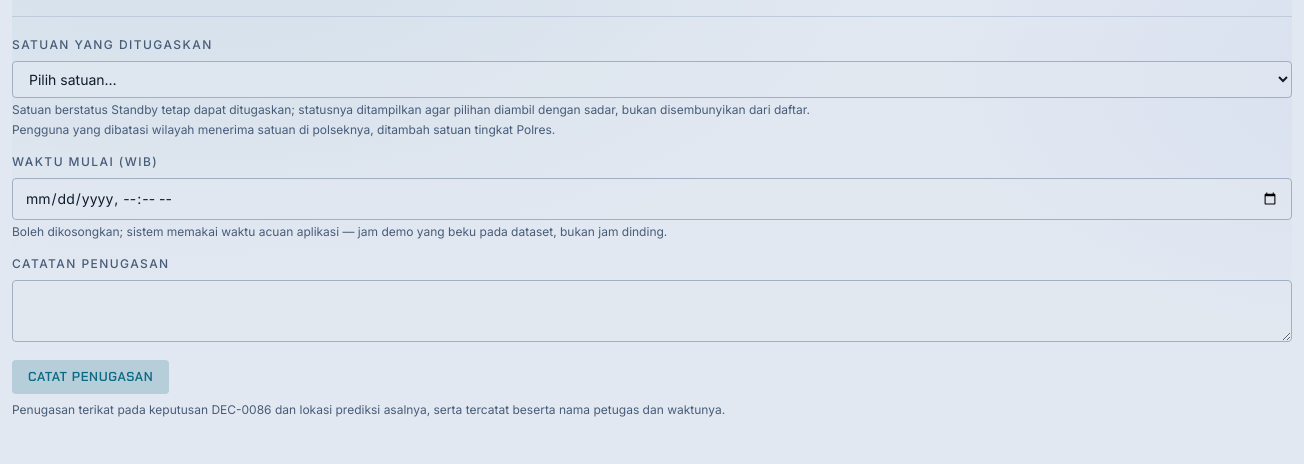
Test case: formulir penugasan › menyatakan kegagalan backend sebagai kalimat, bukan kode kesalahan
Select "Unit Pembinaan Wilayah · Binmas · Aktif (UNIT-004)" in the dropdown at (652, 80), box [12, 61, 1292, 98]
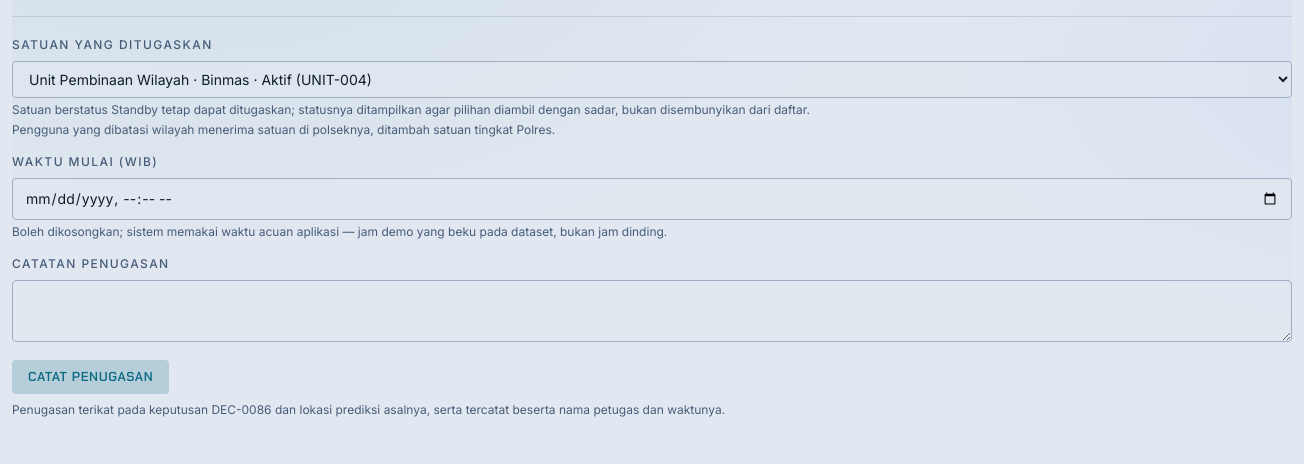
Click the button "Catat Penugasan" at (91, 377), box [12, 360, 169, 394]
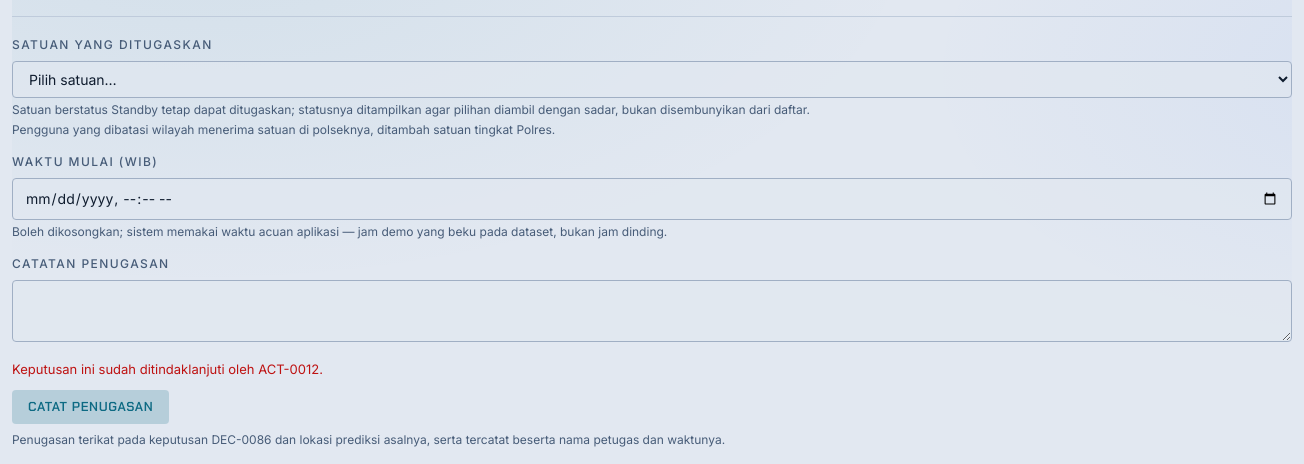
Expected: the message shows "sudah ditindaklanjuti oleh ACT-0012", [12, 361, 323, 377]
